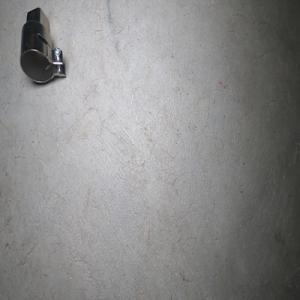MetalPart: (19, 6, 66, 84)
